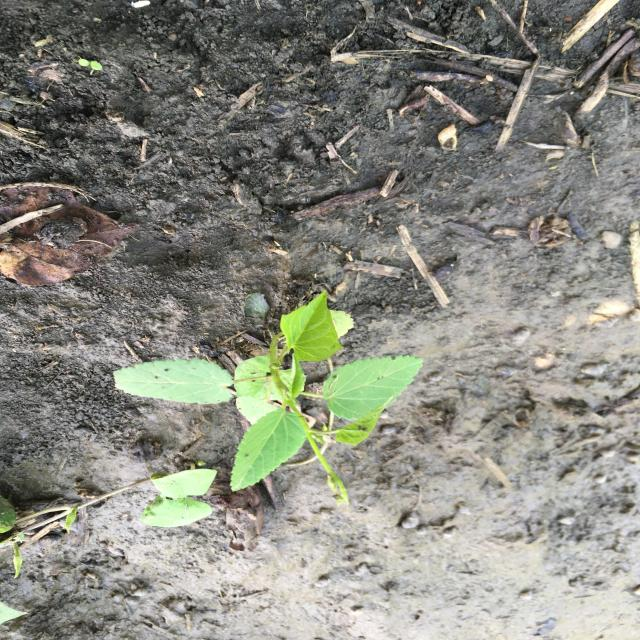PricklySida: (111, 289, 428, 508)
